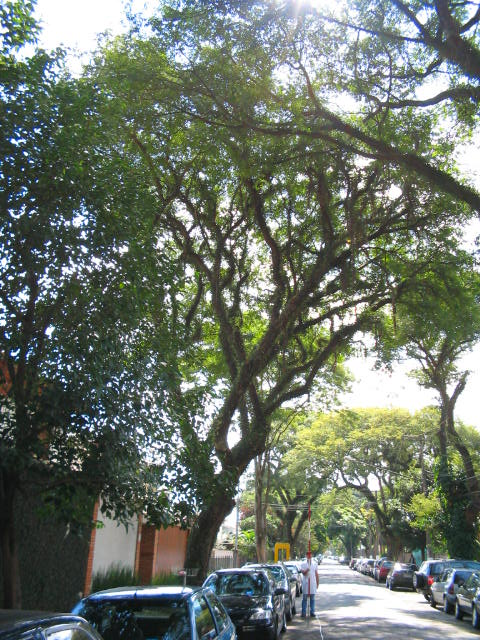stem: (174, 501, 241, 621)
stick: (299, 501, 316, 618)
tree: (108, 59, 448, 622)
